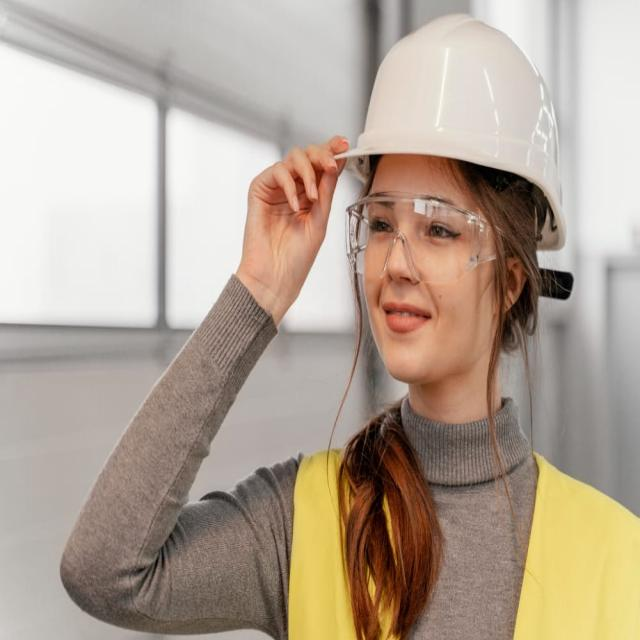Helmet: (330, 10, 595, 203)
Protective Glasses: (331, 186, 543, 283)
